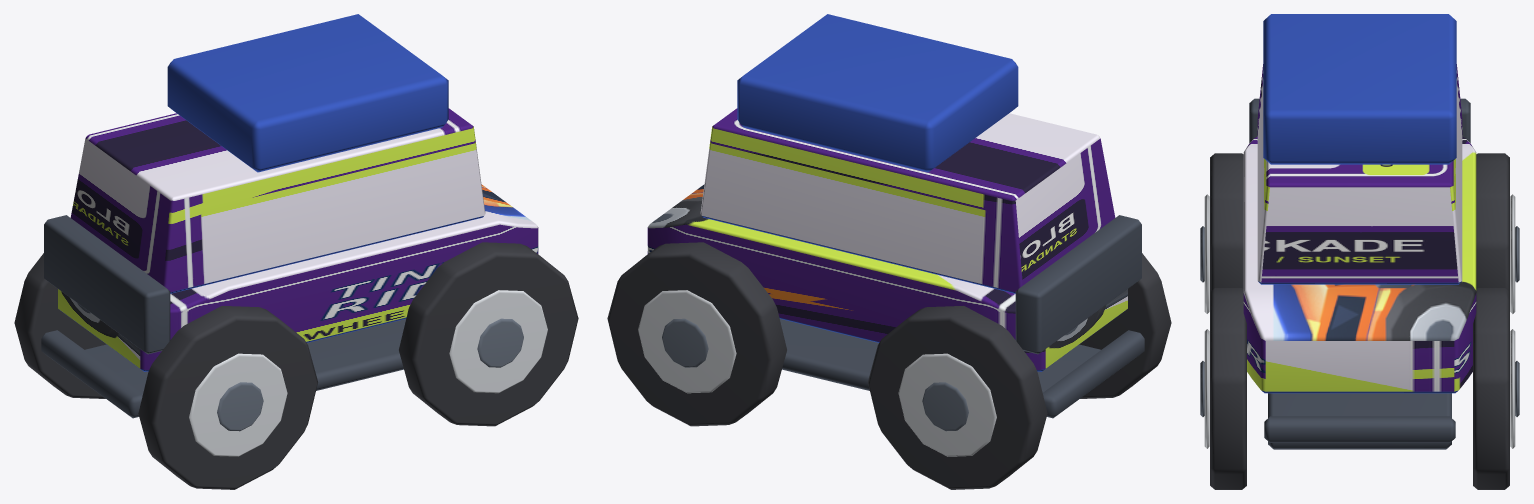
3 renders of one model, left to right at view 1: azimuth 30°, elevation 25°; view 2: azimuth 150°, elevation 25°; view 3: azimuth 270°, elevation 25°, orthographic. The views are drawn at different scales.
Parts seen in each view (by area): view 1: BW-02_cabin, armored roof canopy, BW-02_connected_shell, Tire.002, Tire, armored face guard, Rim, Rim.002, underbody, Tire.001, front bumper, Hub.002 (+1 smaller); view 2: BW-02_cabin, armored roof canopy, BW-02_connected_shell, Tire.003, Tire.001, armored face guard, Rim.001, Rim.003, underbody, Tire, front bumper, Hub.003 (+1 smaller); view 3: armored roof canopy, BW-02_connected_shell, BW-02_cabin, Tire.002, Tire.003, underbody, rear bumper, Tire, Tire.001, armored face guard, Rim.002, Rim.003 (+2 smaller).
Boxes of the visible parts, <box> form: BW-02_cabin: <box>70,108,485,293</box>; armored roof canopy: <box>167,14,448,172</box>; BW-02_connected_shell: <box>58,184,538,371</box>; Tire.002: <box>399,242,578,426</box>; Tire: <box>138,306,317,489</box>; armored face guard: <box>44,215,170,354</box>; Rim: <box>189,353,287,456</box>; Rim.002: <box>449,290,547,393</box>; underbody: <box>85,319,405,392</box>; Tire.001: <box>14,253,106,398</box>; front bumper: <box>41,330,143,418</box>; Hub.002: <box>477,318,523,367</box>; BW-02_cabin: <box>700,108,1115,293</box>; armored roof canopy: <box>737,14,1018,172</box>; BW-02_connected_shell: <box>647,184,1127,371</box>; Tire.003: <box>607,242,786,426</box>; Tire.001: <box>868,306,1047,489</box>; armored face guard: <box>1015,215,1141,354</box>; Rim.001: <box>898,353,996,456</box>; Rim.003: <box>638,290,736,393</box>; underbody: <box>780,319,1100,392</box>; Tire: <box>1079,253,1171,398</box>; front bumper: <box>1042,330,1144,418</box>; Hub.003: <box>662,318,708,367</box>; armored roof canopy: <box>1263,14,1456,164</box>; BW-02_connected_shell: <box>1243,136,1476,393</box>; BW-02_cabin: <box>1257,64,1462,284</box>; Tire.002: <box>1210,288,1246,489</box>; Tire.003: <box>1473,288,1509,489</box>; underbody: <box>1268,393,1451,449</box>; rear bumper: <box>1264,416,1455,442</box>; Tire: <box>1210,153,1243,291</box>; Tire.001: <box>1476,153,1509,291</box>; armored face guard: <box>1249,98,1470,142</box>; Rim.002: <box>1204,329,1209,448</box>; Rim.003: <box>1510,329,1515,448</box>.
Size of the model in its own units: 368 by 279 by 225.
